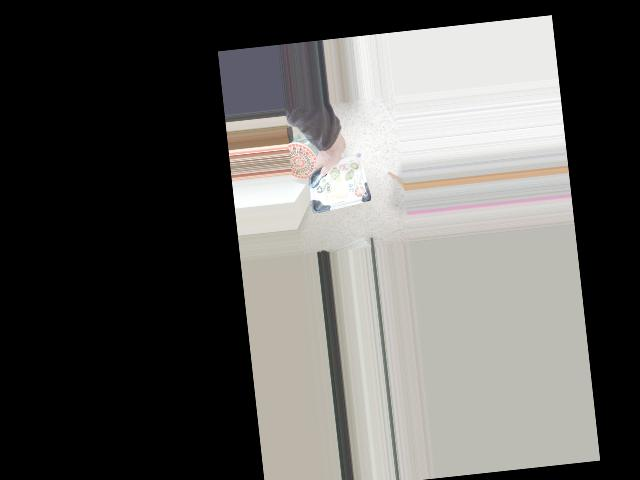cheese: (313, 144, 369, 195)
